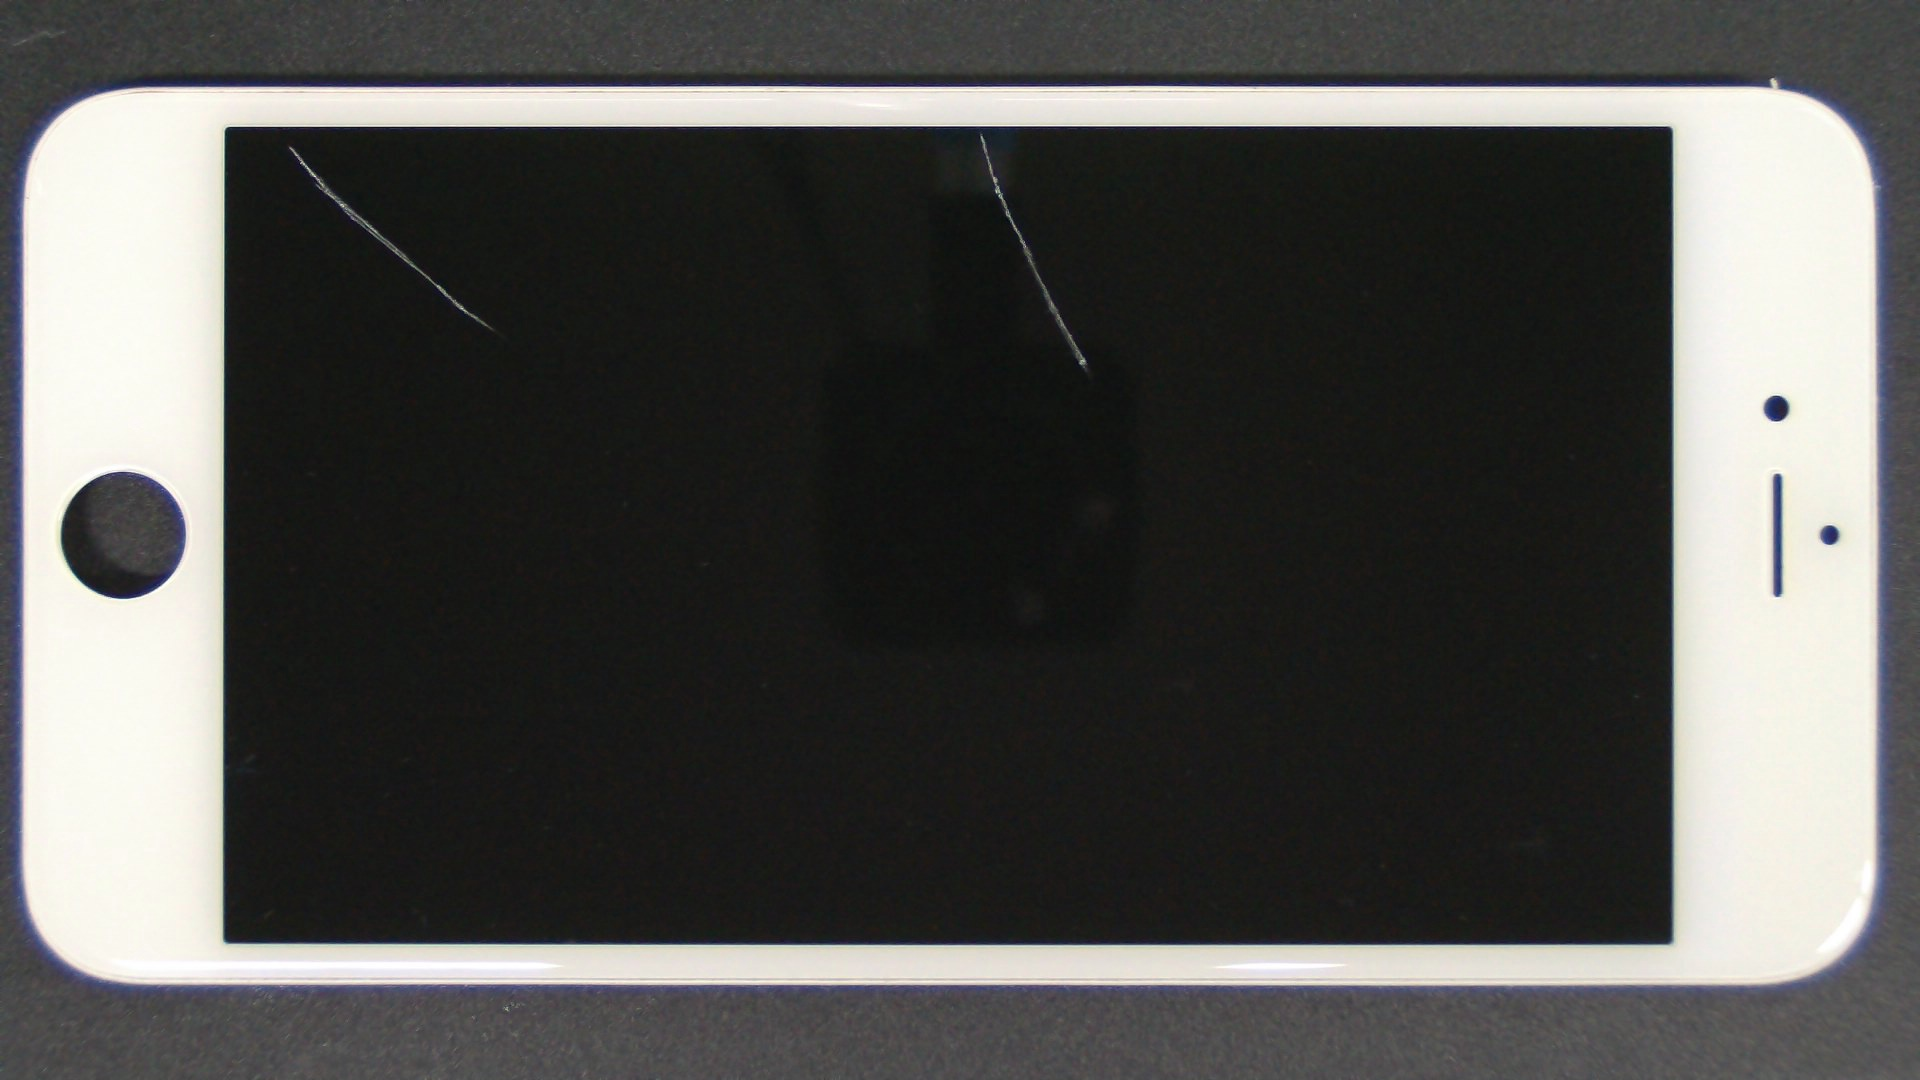oil: (492, 65, 1474, 196), (144, 71, 433, 219)
